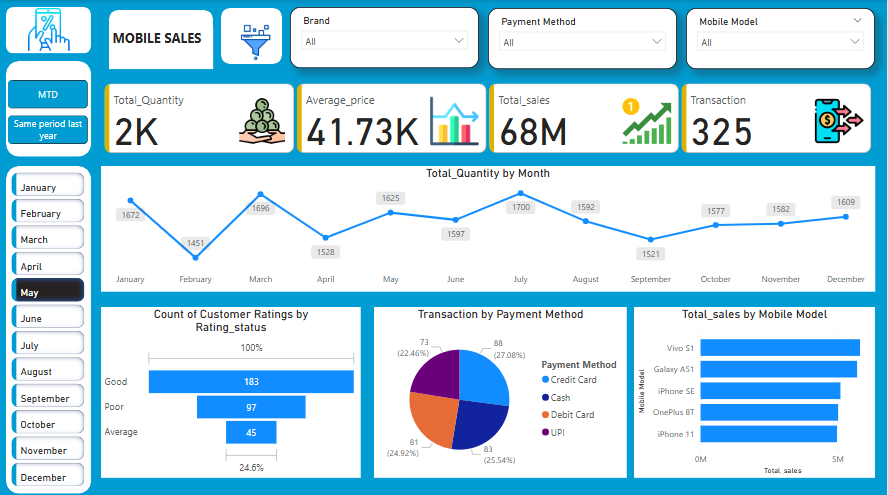

What the dashboard file says about the page in this screenshot:
{"tool":"powerbi","page":{"name":"Dashboard","canvas":[1280,720],"ordinal":1},"visuals":[{"type":"shape","box":[158.4,14.4,149.8,85],"z":0},{"type":"shape","box":[10.1,10.1,122.6,67.2],"z":1000},{"type":"shape","box":[10.1,87.3,122.6,137.7],"z":2000},{"type":"shape","box":[10.1,238.5,122.6,472],"z":3000},{"type":"advancedSlicerVisual","fields":{"Values":["calender.Column1.Variation.Date Hierarchy.Month"]},"box":[13.4,243.6,115.9,467],"z":4000},{"type":"cardVisual","fields":{"Data":["sales_data.Total_Quantity","sales_data.Average_price","sales_data.Total_sales","sales_data.Transaction"]},"box":[146.9,115.2,1114.6,110.9],"z":5000},{"type":"slicer","fields":{"Values":["sales_data.Brand"]},"box":[419,10.1,272.2,87.8],"z":6000},{"type":"slicer","fields":{"Values":["sales_data.Payment Method"]},"box":[704.2,11.5,272.2,87.8],"z":7000},{"type":"slicer","fields":{"Values":["sales_data.Mobile Model"]},"box":[989.3,11.5,272.2,87.8],"z":8000},{"type":"shape","box":[319.7,11.5,87.8,80.6],"z":9000},{"type":"image","box":[319.7,30.2,99.4,61.9],"z":10000},{"type":"textbox","box":[158.4,37.4,149.8,61.9],"z":11000},{"type":"lineChart","fields":{"Category":["calender.Column1.Variation.Date Hierarchy.Month"],"Y":["sales_data.Total_Quantity"]},"box":[146.9,239,1114.6,181.4],"z":12000},{"type":"funnel","fields":{"Y":["CountNonNull(sales_data.Customer Ratings)"],"Category":["sales_data.Rating_status"]},"box":[146.9,442.1,374.4,246.2],"z":13000},{"type":"pieChart","fields":{"Y":["sales_data.Transaction"],"Category":["sales_data.Payment Method"]},"box":[540,442.1,364.3,246.2],"z":14000},{"type":"clusteredBarChart","fields":{"Y":["sales_data.Total_sales"],"Category":["sales_data.Mobile Model"]},"box":[914.4,442.1,347,246.2],"z":15000},{"type":"image","box":[28.8,4.3,85,76.3],"z":16000},{"type":"pageNavigator","box":[13,115.2,115.2,93.6],"z":17000}]}

Visuals, with their boxes in screenshot pixels (x1, y1, x2, y2), scaled from the page's 1280x720 canvas onto the 888x495 screenshot:
shape: 110:10:214:68
shape: 7:7:92:53
shape: 7:60:92:155
shape: 7:164:92:488
advancedSlicerVisual - calender.Column1.Variation.Date Hierarchy.Month: 9:167:90:489
cardVisual - sales_data.Total_Quantity x sales_data.Average_price: 102:79:875:155
slicer - sales_data.Brand: 291:7:480:67
slicer - sales_data.Payment Method: 489:8:677:68
slicer - sales_data.Mobile Model: 686:8:875:68
shape: 222:8:283:63
image: 222:21:291:63
textbox: 110:26:214:68
lineChart - calender.Column1.Variation.Date Hierarchy.Month x sales_data.Total_Quantity: 102:164:875:289
funnel - CountNonNull(sales_data.Customer Ratings) x sales_data.Rating_status: 102:304:362:473
pieChart - sales_data.Transaction x sales_data.Payment Method: 375:304:627:473
clusteredBarChart - sales_data.Total_sales x sales_data.Mobile Model: 634:304:875:473
image: 20:3:79:55
pageNavigator: 9:79:89:144
